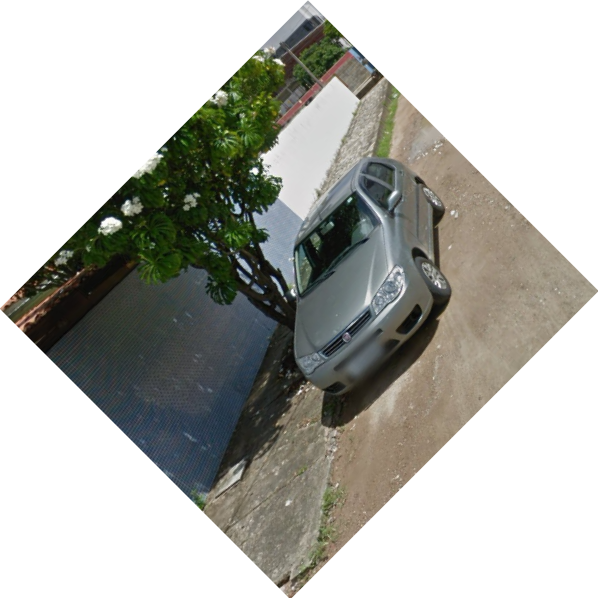car: (290, 152, 454, 400)
